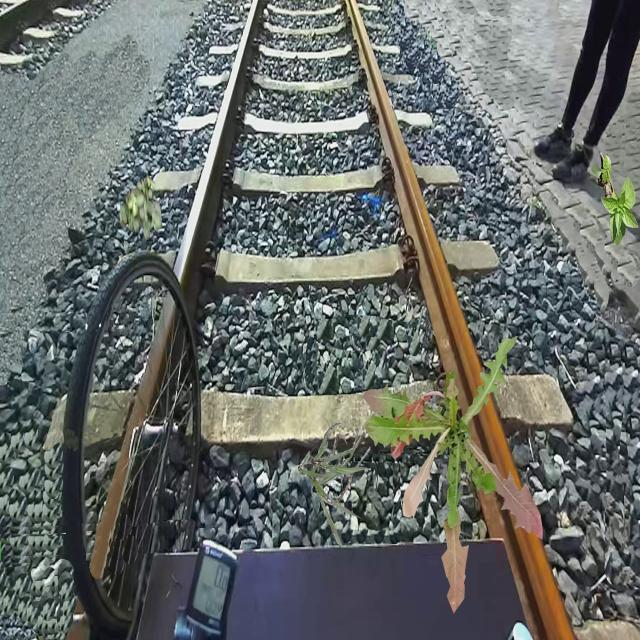Plant: (363, 336, 543, 614), (298, 423, 371, 548), (592, 152, 640, 247), (119, 174, 162, 240)
